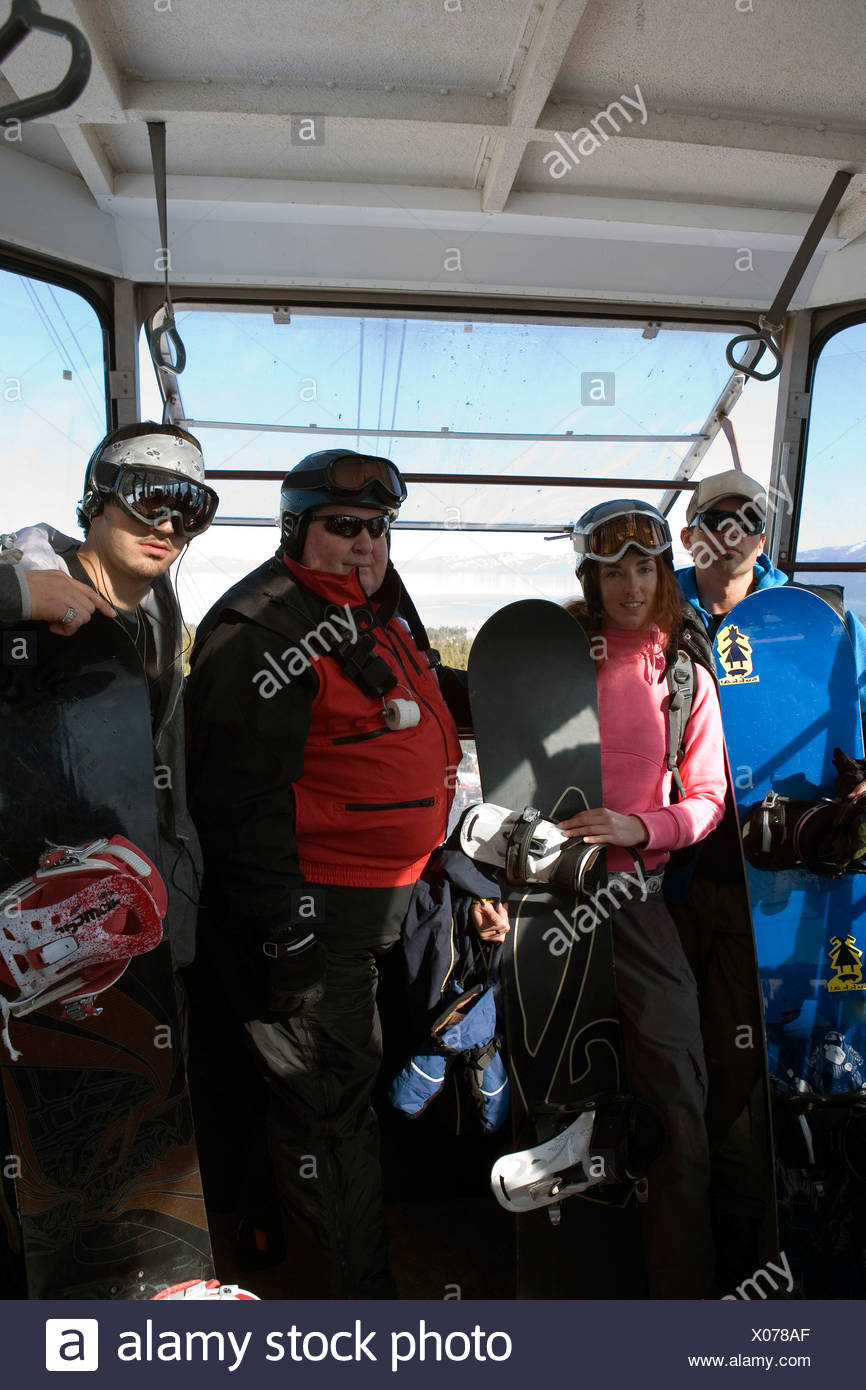person: (215, 430, 449, 864), (17, 381, 198, 883), (486, 485, 717, 871)
